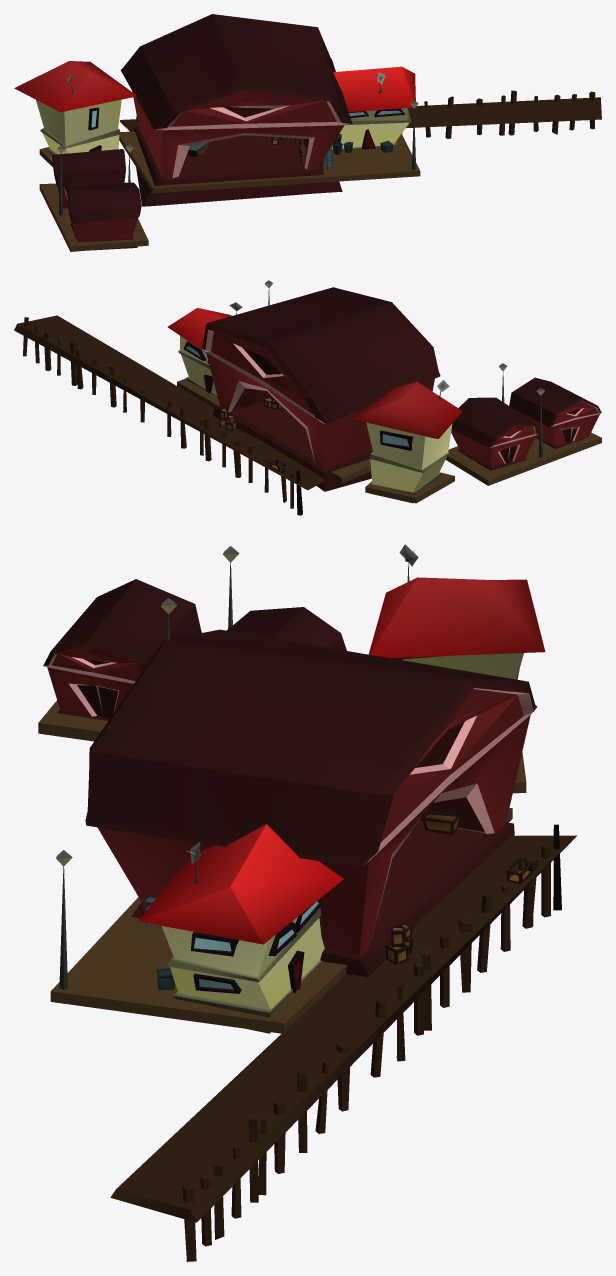
Rendered from c_barns.fbx.
The picture shows the model from 3 angles, top to bottom: view 1: azimuth 30°, elevation 25°; view 2: azimuth 150°, elevation 25°; view 3: azimuth 270°, elevation 25°; orthographic projection. The views are drawn at different scales.
Parts seen in each view (by area): view 1: c_barns; view 2: c_barns; view 3: c_barns.
Part boxes in pixels (left/top/right/bottom): c_barns: left=14, top=14, right=601, bottom=251; c_barns: left=14, top=280, right=601, bottom=515; c_barns: left=38, top=544, right=576, bottom=1261.
Bounding box in the file's own units: 75.95 × 18.71 × 31.87.
